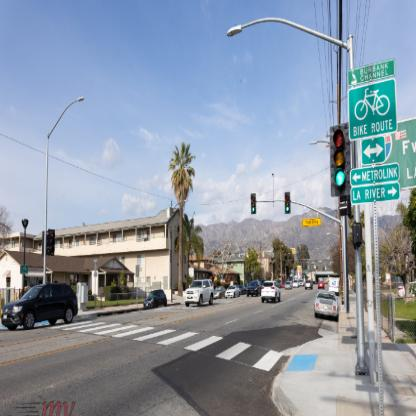green: (330, 120, 351, 197), (285, 192, 291, 213), (251, 194, 257, 214)
